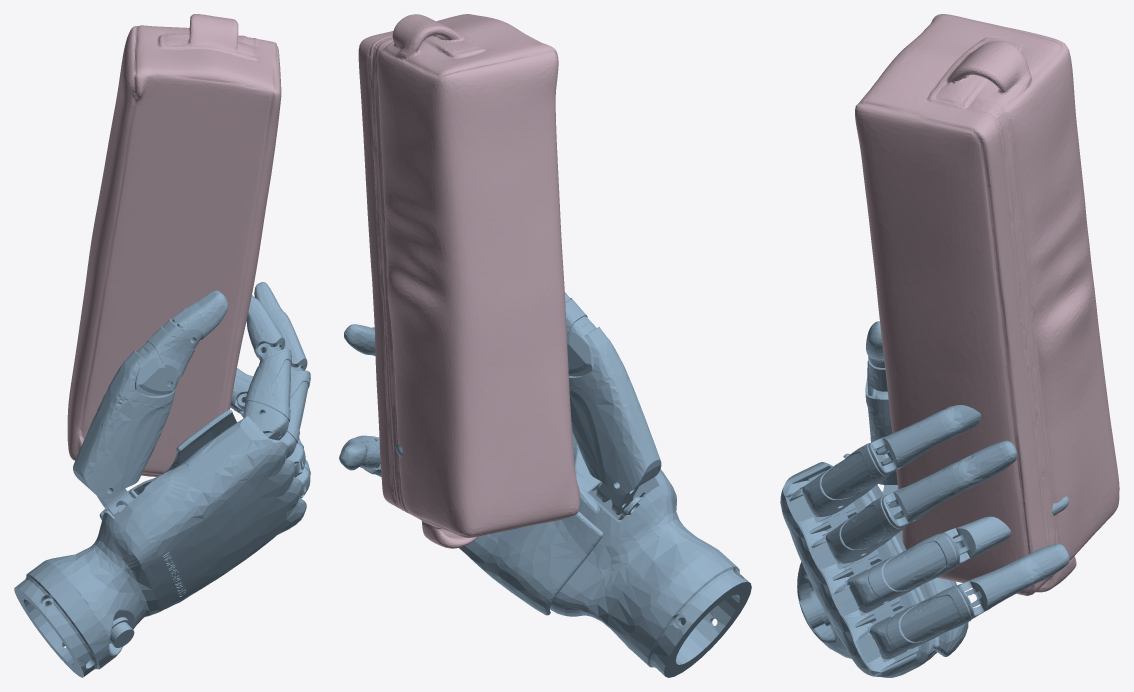
3 views of the same model, side by side, from view 1: azimuth 30°, elevation 25°; view 2: azimuth 150°, elevation 25°; view 3: azimuth 270°, elevation 25° (orthographic). The views are drawn at different scales.
Parts seen in each view (by area): view 1: obj_mesh_grasp_10.obj, world; view 2: obj_mesh_grasp_10.obj, world; view 3: obj_mesh_grasp_10.obj, world.
Boxes of the visible parts, box(x1,y1,x2,y2) form: obj_mesh_grasp_10.obj: box(67, 14, 281, 476); world: box(14, 282, 310, 677); obj_mesh_grasp_10.obj: box(358, 14, 579, 548); world: box(339, 292, 751, 677); obj_mesh_grasp_10.obj: box(855, 14, 1119, 595); world: box(780, 321, 1069, 677).
Bounding box in the file's own units: 0.1605 × 0.2904 × 0.1232.
